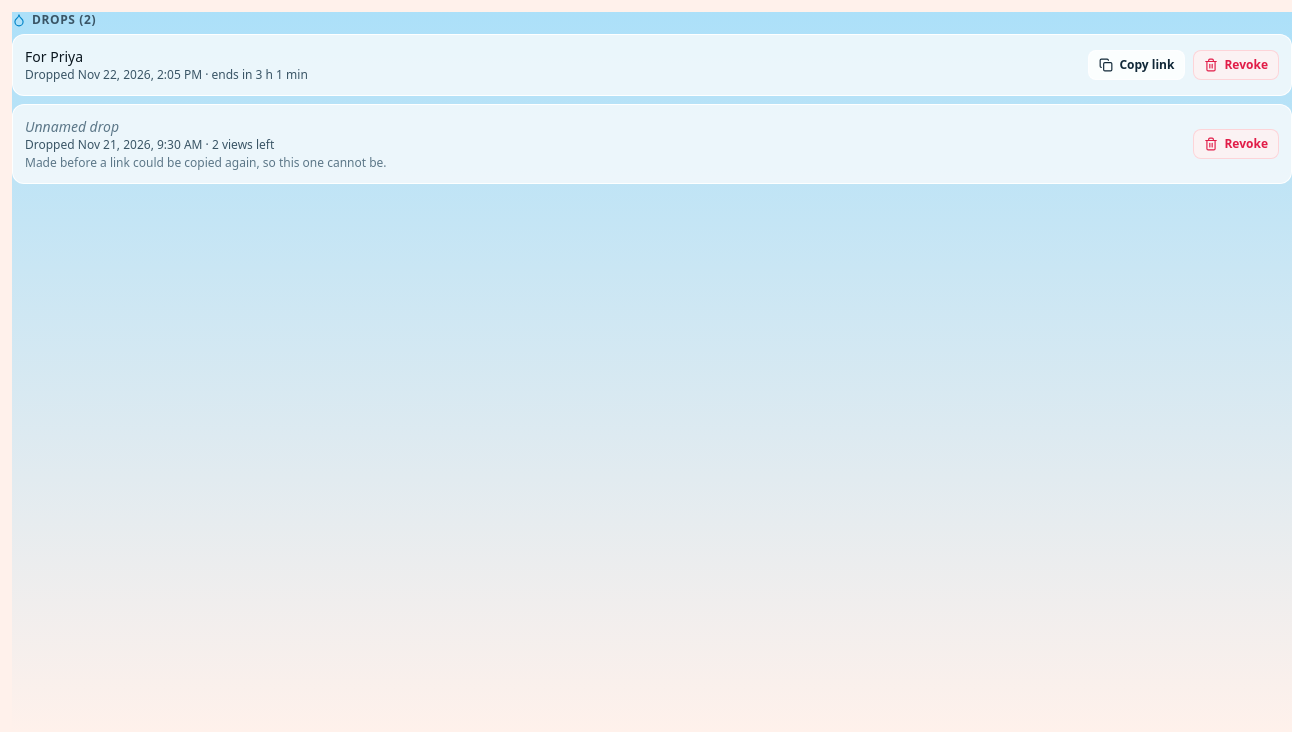
Test: SharedLinks › copying a live link again › says when the browser would not copy
Click the button "Copy link". click: (1137, 65)
box: left=1088, top=50, right=1185, bottom=80
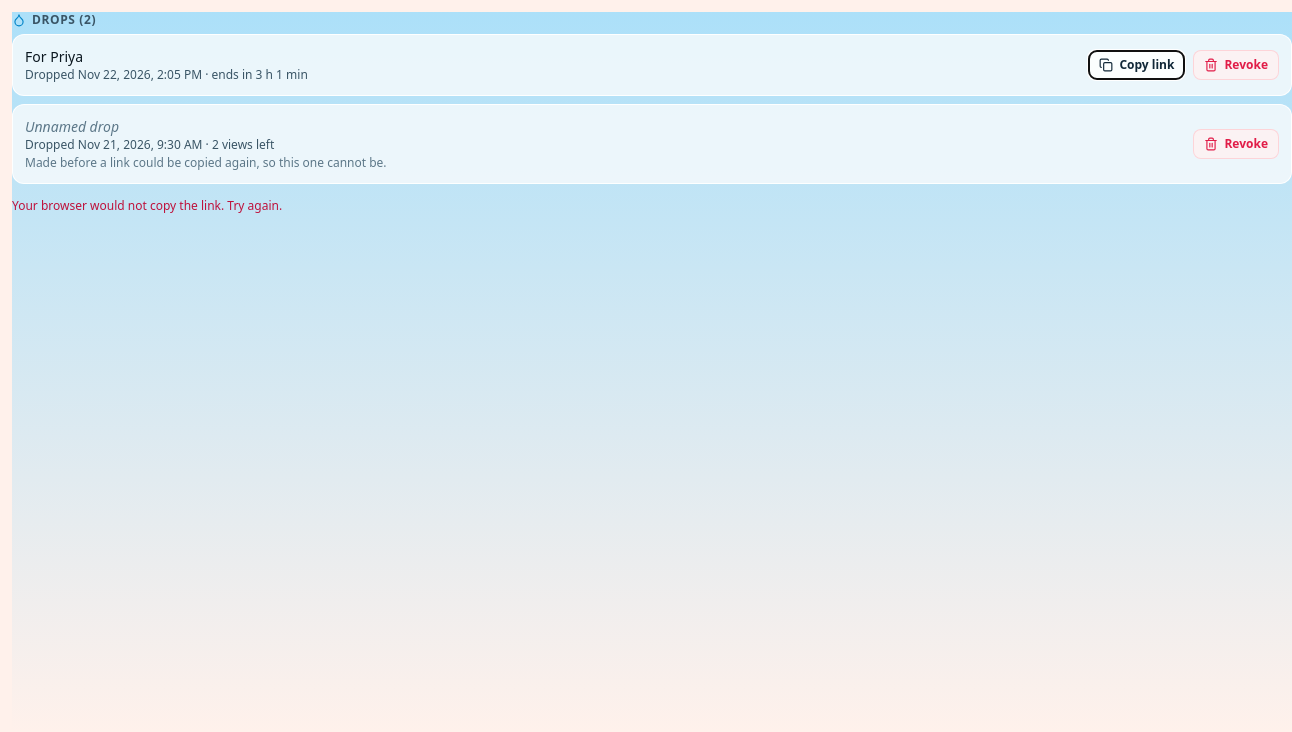
Now the message "Your browser would not copy the link. Try again." is shown, box left=12, top=197, right=282, bottom=214
